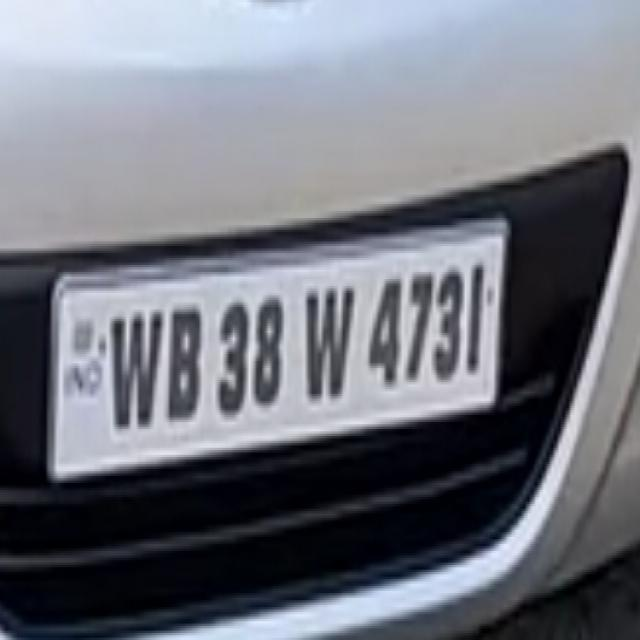1: (467, 250, 488, 393)
3: (216, 284, 250, 421), (435, 265, 463, 382)
4: (366, 270, 404, 390)
7: (406, 260, 434, 390)
8: (253, 282, 288, 414)
B: (167, 298, 206, 428)
W: (102, 288, 168, 439), (300, 270, 358, 416)
